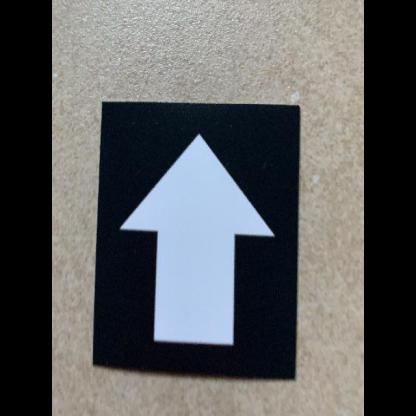up: (93, 99, 302, 383)
